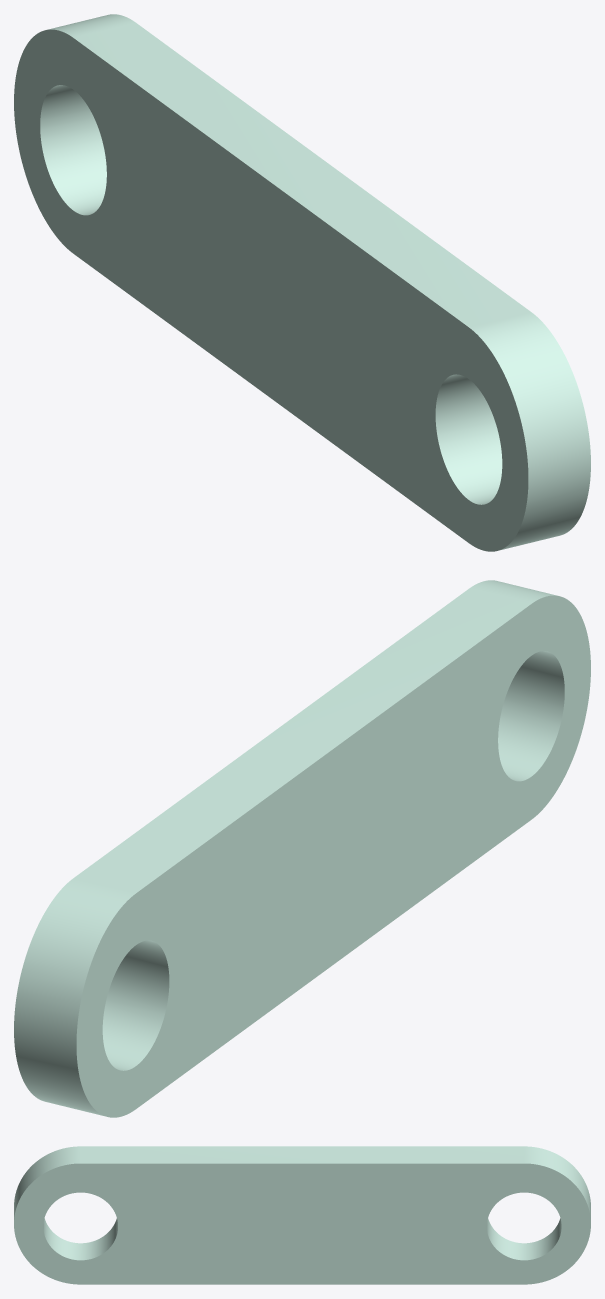
3 views of the same model, one above another, from view 1: azimuth 30°, elevation 25°; view 2: azimuth 150°, elevation 25°; view 3: azimuth 270°, elevation 25° (orthographic). The views are drawn at different scales.
Parts seen in each view (by area): view 1: Renderer Node; view 2: Renderer Node; view 3: Renderer Node.
Boxes of the visible parts, x1=… form: Renderer Node: x1=14, y1=14, x2=590, y2=551; Renderer Node: x1=14, y1=580, x2=590, y2=1117; Renderer Node: x1=14, y1=1146, x2=590, y2=1284.
Size of the model in its own units: 0.1016 by 0.3351 by 1.45.
